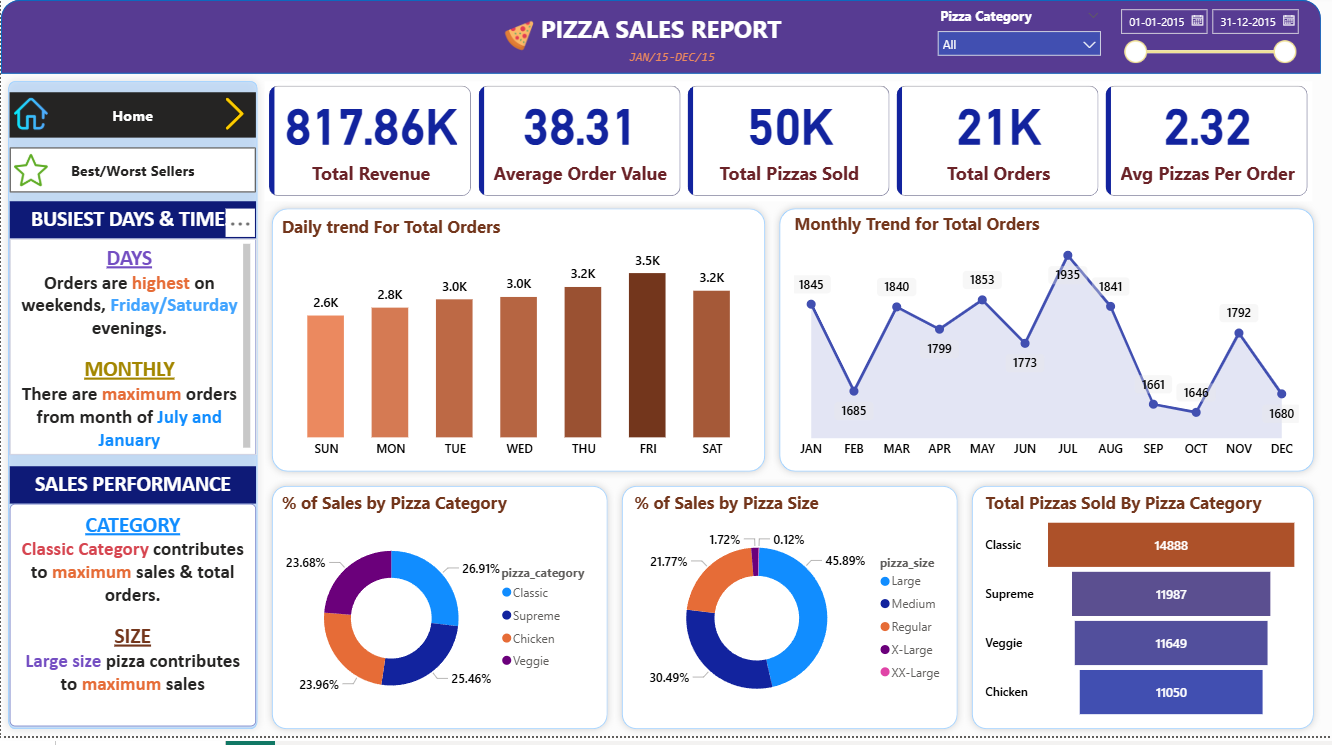

The page's visual inventory and layout, read from the dashboard file:
{"tool":"powerbi","page":{"name":"Home","canvas":[1500,820],"ordinal":0},"visuals":[{"type":"shape","box":[0,82.2,293.9,738.1],"z":0},{"type":"shape","box":[0,0,1470.7,82.2],"z":1000},{"type":"textbox","box":[578,8.4,314.7,48.7],"z":2000},{"type":"textbox","box":[694.9,48.7,112.8,30.6],"z":3000},{"type":"image","box":[547.3,18.1,59.9,43.2],"z":4000},{"type":"shape","box":[293.9,224.2,565.4,309.2],"z":5000},{"type":"columnChart","title":"Daily trend For Total Orders","fields":{"Category":["pizza_sales.Order Day"],"Y":["pizza_sales.Total Orders"]},"box":[307.8,239.5,540.4,279.9],"z":6000},{"type":"shape","box":[859.3,224.2,611.4,309.2],"z":7000},{"type":"areaChart","title":"Monthly Trend for Total Orders","fields":{"Category":["pizza_sales.Order Month"],"Y":["pizza_sales.Total Orders"]},"box":[878.8,236.8,572.4,282.7],"z":8000},{"type":"shape","box":[293.9,533.4,389.9,286.9],"z":9000},{"type":"shape","box":[683.8,533.4,389.9,286.9],"z":10000},{"type":"shape","box":[1073.7,533.4,396.9,286.9],"z":11000},{"type":"donutChart","title":"% of Sales by Pizza Category","fields":{"Category":["pizza_sales.pizza_category"],"Y":["pizza_sales.Total Revenue"]},"box":[307.8,547.3,363.5,259],"z":12000},{"type":"donutChart","title":"% of Sales by Pizza Size","fields":{"Y":["pizza_sales.Total Revenue"],"Category":["pizza_sales.pizza_size"]},"box":[700.5,547.3,363.5,259],"z":13000},{"type":"funnel","title":"Total Pizzas Sold By Pizza Category","fields":{"Category":["pizza_sales.pizza_category"],"Y":["pizza_sales.Total Pizzas Sold"]},"box":[1091.9,547.3,359.3,259],"z":14000},{"type":"textbox","box":[9.7,224.2,274.4,41.8],"z":15000},{"type":"textbox","box":[9.7,266,274.4,240.9],"z":16000},{"type":"textbox","box":[9.7,519.5,274.4,41.8],"z":17000},{"type":"textbox","box":[9.7,561.2,274.4,247.9],"z":18000},{"type":"slicer","fields":{"Values":["pizza_sales.pizza_category"]},"box":[1033.4,2.8,201.9,61.3],"z":19000},{"type":"slicer","fields":{"Values":["pizza_sales.order_date"]},"box":[1235.3,0,215.9,82.2],"z":20000},{"type":"pageNavigator","box":[9.7,103.1,274.4,50.1],"z":21000},{"type":"pageNavigator","box":[9.7,164.3,274.4,50.1],"z":22000},{"type":"image","box":[236.8,100.3,47.4,52.9],"z":23000},{"type":"image","box":[9.7,100.3,47.4,52.9],"z":24000},{"type":"image","box":[9.7,158.8,47.4,61.3],"z":25000},{"type":"cardVisual","fields":{"Data":["pizza_sales.Total Revenue","pizza_sales.Average Order Value","pizza_sales.Total Pizzas Sold","pizza_sales.Total Orders","pizza_sales.Avg Pizzas Per Order"]},"box":[293.9,90.5,1167.1,133.7],"z":26000}]}

Visuals, with their boxes in screenshot pixels (x1, y1, x2, y2), scaled from the page's 1500x820 canvas onto the 1332x745 screenshot:
shape: 0 75 261 744
shape: 0 0 1306 75
textbox: 513 8 793 52
textbox: 617 44 717 72
image: 486 16 539 56
shape: 261 204 763 485
"Daily trend For Total Orders" columnChart: 273 218 753 472
shape: 763 204 1306 485
"Monthly Trend for Total Orders" areaChart: 780 215 1289 472
shape: 261 485 607 744
shape: 607 485 953 744
shape: 953 485 1306 744
"% of Sales by Pizza Category" donutChart: 273 497 596 733
"% of Sales by Pizza Size" donutChart: 622 497 945 733
"Total Pizzas Sold By Pizza Category" funnel: 970 497 1289 733
textbox: 9 204 252 242
textbox: 9 242 252 461
textbox: 9 472 252 510
textbox: 9 510 252 735
slicer - pizza_sales.pizza_category: 918 3 1097 58
slicer - pizza_sales.order_date: 1097 0 1289 75
pageNavigator: 9 94 252 139
pageNavigator: 9 149 252 195
image: 210 91 252 139
image: 9 91 51 139
image: 9 144 51 200
cardVisual - pizza_sales.Total Revenue x pizza_sales.Average Order Value: 261 82 1297 204
